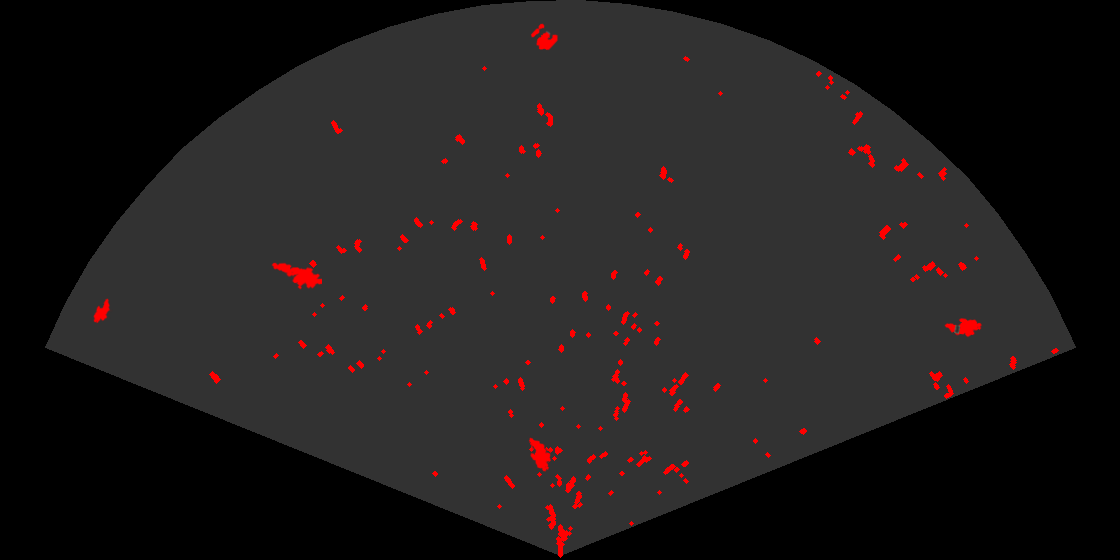AUV: (527, 436, 552, 473), (943, 317, 984, 339), (92, 297, 113, 325)
ball: (529, 22, 560, 52)
frogman: (271, 261, 322, 291)
